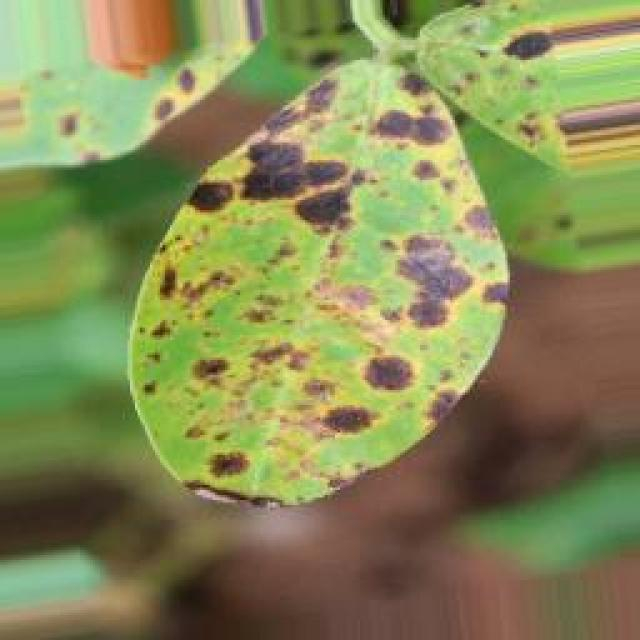Yellowish: (87, 12, 561, 502)
